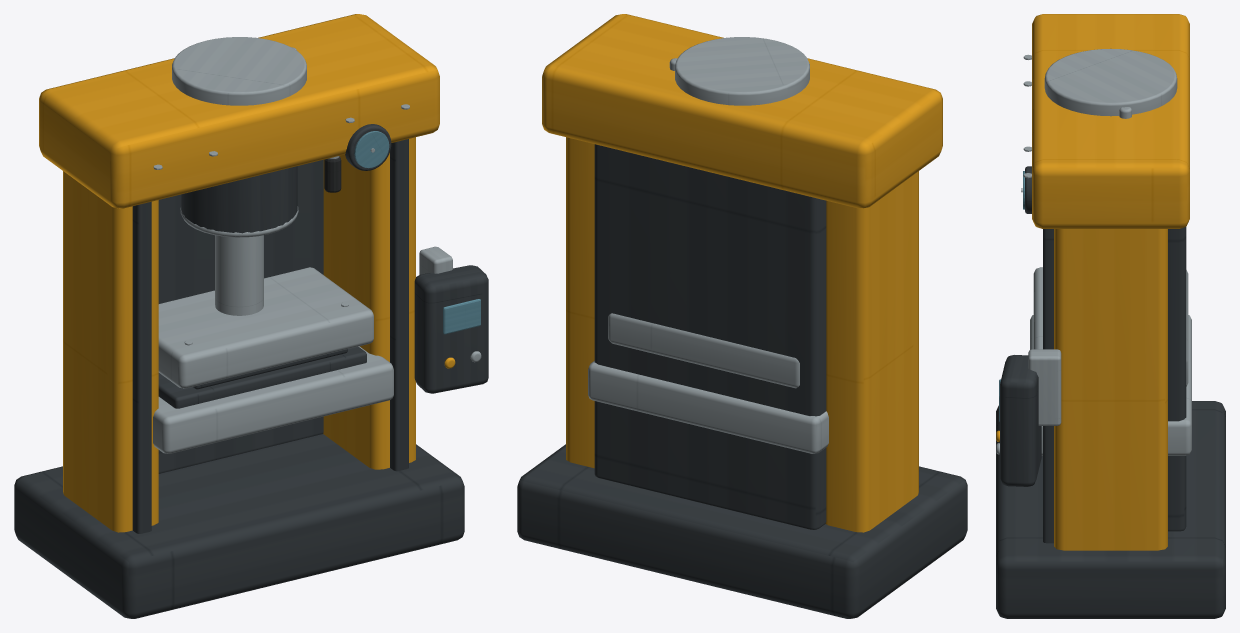
Rendered from PRESS-001.fbx.
3 renders of one model, left to right at view 1: azimuth 30°, elevation 25°; view 2: azimuth 150°, elevation 25°; view 3: azimuth 270°, elevation 25°, orthographic. The views are drawn at different scales.
Visible parts, largest first — view 1: Lower_Base, Top_Crown, H_Frame_Column, Upper_Press_Plate, H_Frame_Column.001, Rear_Tie, Press_Bolster, Cylinder_Cap_Top, Press_Panel, Column_Front_Rib, Column_Front_Rib.001, Cylinder_Barrel (+8 smaller); view 2: Rear_Tie, Top_Crown, Lower_Base, H_Frame_Column, H_Frame_Column.001, Press_Bolster, Cylinder_Cap_Top, Upper_Press_Plate; view 3: H_Frame_Column.001, Top_Crown, Lower_Base, Cylinder_Cap_Top, Rear_Tie, Press_Panel, Column_Front_Rib.001, Press_Panel_Bracket, Press_Bolster, Upper_Press_Plate.
Boxes of the visible parts, box(x1,y1,x2,y2) form: Lower_Base: box(14, 434, 464, 618); Top_Crown: box(39, 14, 439, 208); H_Frame_Column: box(63, 171, 158, 532); Upper_Press_Plate: box(158, 267, 373, 388); H_Frame_Column.001: box(323, 137, 415, 469); Rear_Tie: box(158, 159, 323, 473); Press_Bolster: box(153, 346, 393, 453); Cylinder_Cap_Top: box(172, 37, 306, 105); Press_Panel: box(414, 265, 488, 393); Column_Front_Rib: box(132, 201, 151, 533); Column_Front_Rib.001: box(390, 139, 408, 471); Cylinder_Barrel: box(181, 166, 297, 233); Rear_Tie: box(594, 144, 826, 529); Top_Crown: box(542, 14, 942, 208); Lower_Base: box(517, 444, 967, 618); H_Frame_Column: box(825, 171, 918, 532); H_Frame_Column.001: box(566, 137, 594, 468); Press_Bolster: box(588, 361, 828, 453); Cylinder_Cap_Top: box(675, 37, 809, 105); Upper_Press_Plate: box(608, 313, 799, 388); H_Frame_Column.001: box(1054, 229, 1167, 550); Top_Crown: box(1032, 14, 1189, 228); Lower_Base: box(996, 401, 1225, 618); Cylinder_Cap_Top: box(1044, 48, 1177, 116); Rear_Tie: box(1168, 227, 1186, 531); Press_Panel: box(1000, 355, 1041, 486); Column_Front_Rib.001: box(1043, 229, 1053, 543); Press_Panel_Bracket: box(1028, 349, 1061, 425); Press_Bolster: box(1030, 315, 1191, 455); Upper_Press_Plate: box(1033, 267, 1188, 386).
Bounding box in the file's own units: 2.26 × 2.8 × 1.25.
